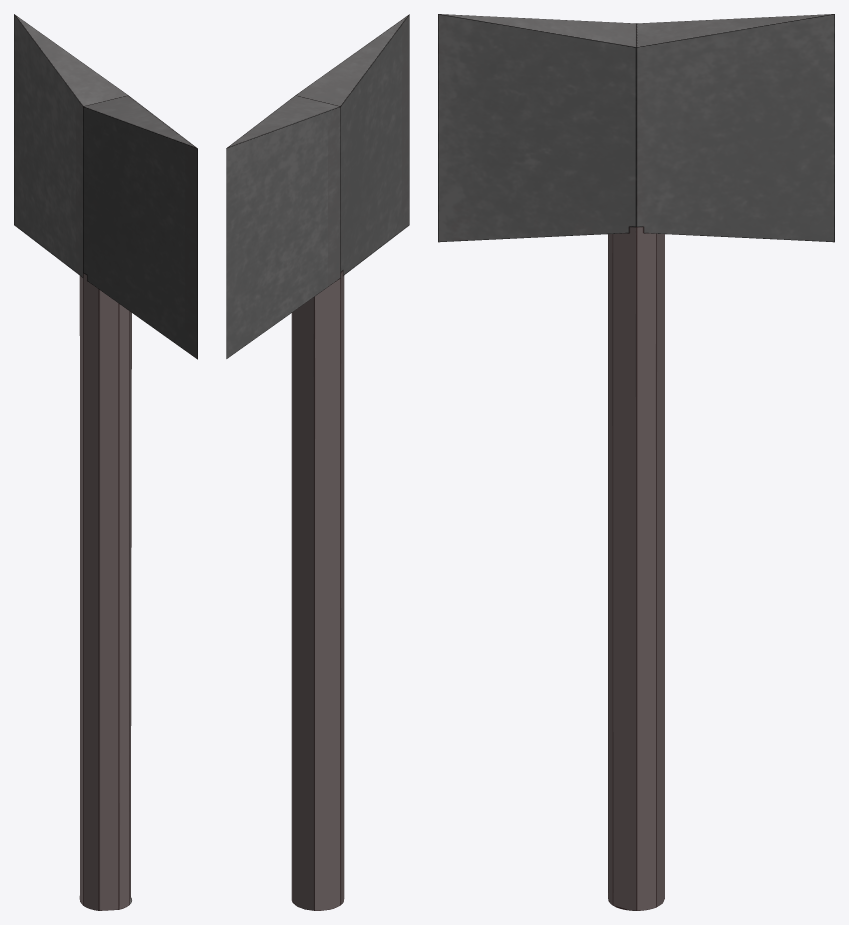
File: axe.glb
3 views of the same model, side by side, from view 1: azimuth 30°, elevation 25°; view 2: azimuth 150°, elevation 25°; view 3: azimuth 270°, elevation 25° (orthographic). The views are drawn at different scales.
Visible parts, largest first — view 1: Cylinder; view 2: Cylinder; view 3: Cylinder.
Boxes of the visible parts, x1,y1,x2,y2 form: Cylinder: (14,14,197,910); Cylinder: (226,14,409,910); Cylinder: (438,14,834,910).
Bounding box in the file's own units: 2 × 34.44 × 14.
1 material, 1 textured.
